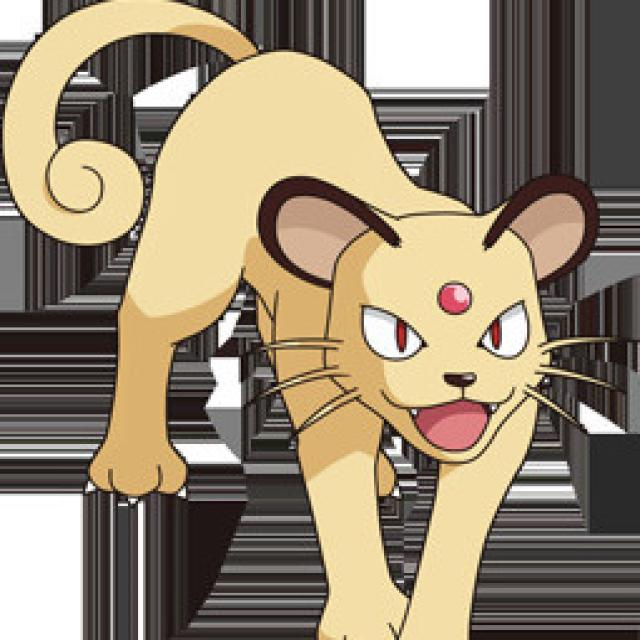Persian: (79, 7, 560, 636)
